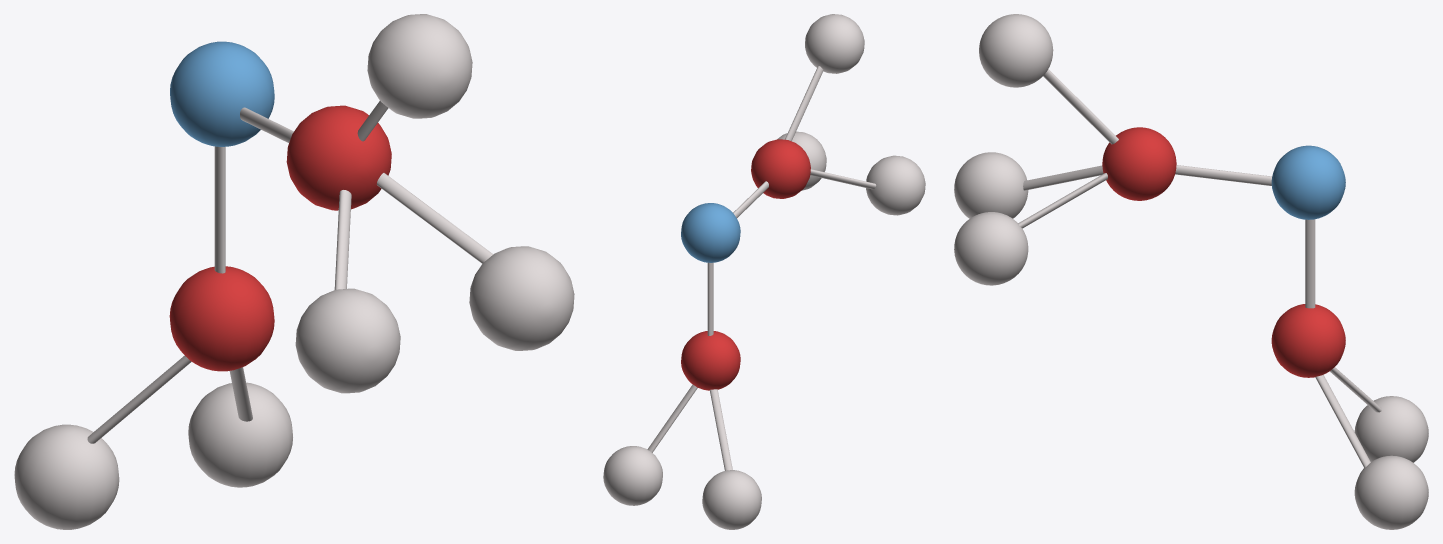
Rendered from Molecule.fbx.
The picture shows the model from 3 angles, left to right: view 1: azimuth 30°, elevation 25°; view 2: azimuth 150°, elevation 25°; view 3: azimuth 270°, elevation 25°; orthographic projection. The views are drawn at different scales.
Visible parts, largest first — view 1: pCylinder11, pSphere7, pSphere8, pSphere3, pSphere5, pCylinder3, pCylinder6, pCylinder4; view 2: pCylinder11, pSphere5, pSphere8, pSphere3, pSphere7, pCylinder6, pCylinder4, pCylinder3; view 3: pCylinder11, pSphere3, pSphere5, pSphere7, pSphere8, pCylinder3, pCylinder4.
Part boxes in pixels (x1=…): pCylinder11: x1=240, y1=14, x2=574, y2=393; pSphere7: x1=169, y1=266, x2=274, y2=371; pSphere8: x1=14, y1=424, x2=119, y2=529; pSphere3: x1=170, y1=41, x2=274, y2=146; pSphere5: x1=188, y1=382, x2=292, y2=487; pCylinder3: x1=214, y1=146, x2=225, y2=273; pCylinder6: x1=87, y1=355, x2=191, y2=443; pCylinder4: x1=229, y1=367, x2=252, y2=421; pCylinder11: x1=733, y1=14, x2=925, y2=217; pSphere5: x1=603, y1=446, x2=662, y2=505; pSphere8: x1=702, y1=470, x2=761, y2=529; pSphere3: x1=681, y1=203, x2=740, y2=262; pSphere7: x1=681, y1=331, x2=740, y2=390; pCylinder6: x1=709, y1=389, x2=732, y2=470; pCylinder4: x1=647, y1=384, x2=697, y2=452; pCylinder3: x1=707, y1=262, x2=713, y2=335; pCylinder11: x1=954, y1=14, x2=1272, y2=285; pSphere3: x1=1271, y1=145, x2=1345, y2=219; pSphere5: x1=1354, y1=455, x2=1428, y2=529; pSphere7: x1=1271, y1=304, x2=1345, y2=377; pSphere8: x1=1354, y1=396, x2=1428, y2=462; pCylinder3: x1=1305, y1=219, x2=1315, y2=308; pCylinder4: x1=1315, y1=374, x2=1370, y2=468.
Size of the model in its own units: 2.04 by 4.94 by 4.43.
